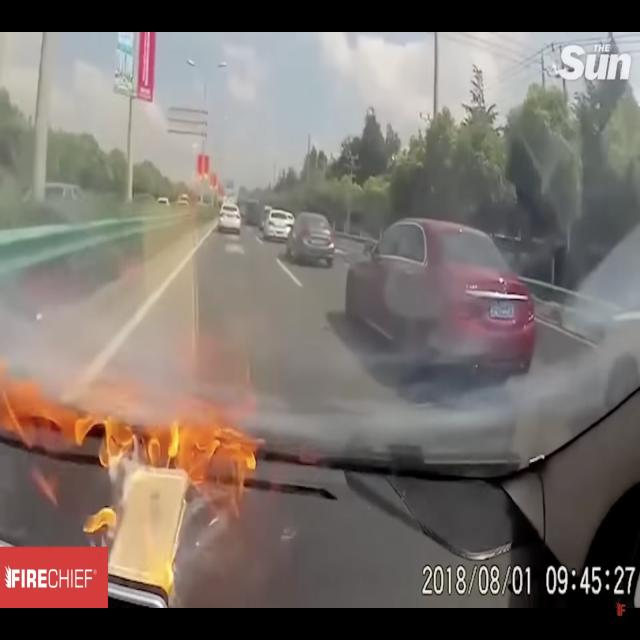Fogo: (24, 340, 284, 597)
